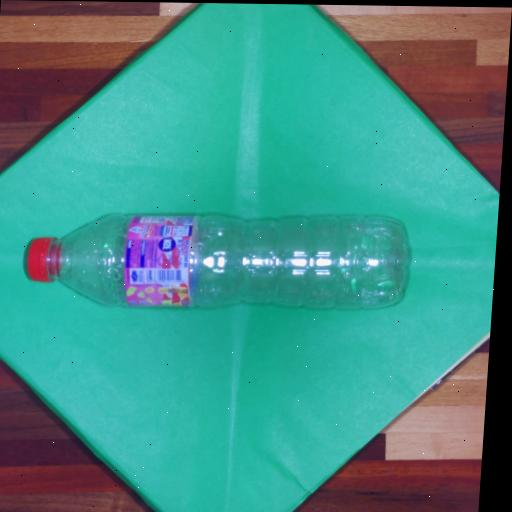bottle: (26, 215, 406, 307)
